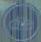bike lane: (3, 5, 37, 41)
